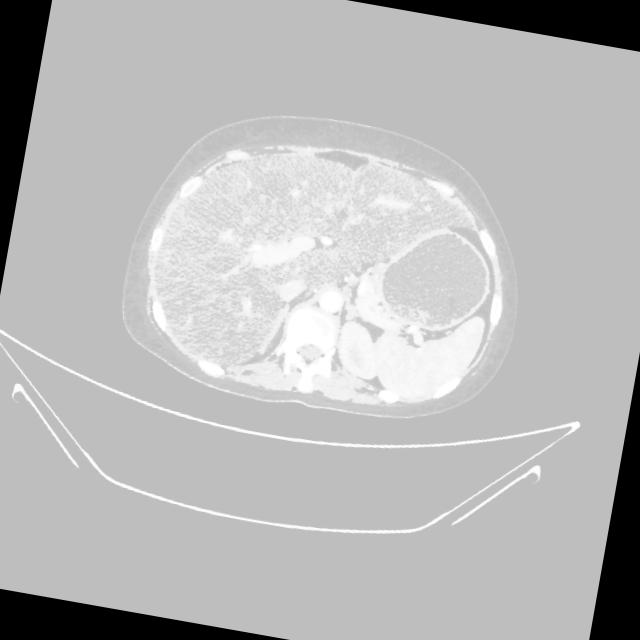NORMAL: (94, 78, 583, 444)
